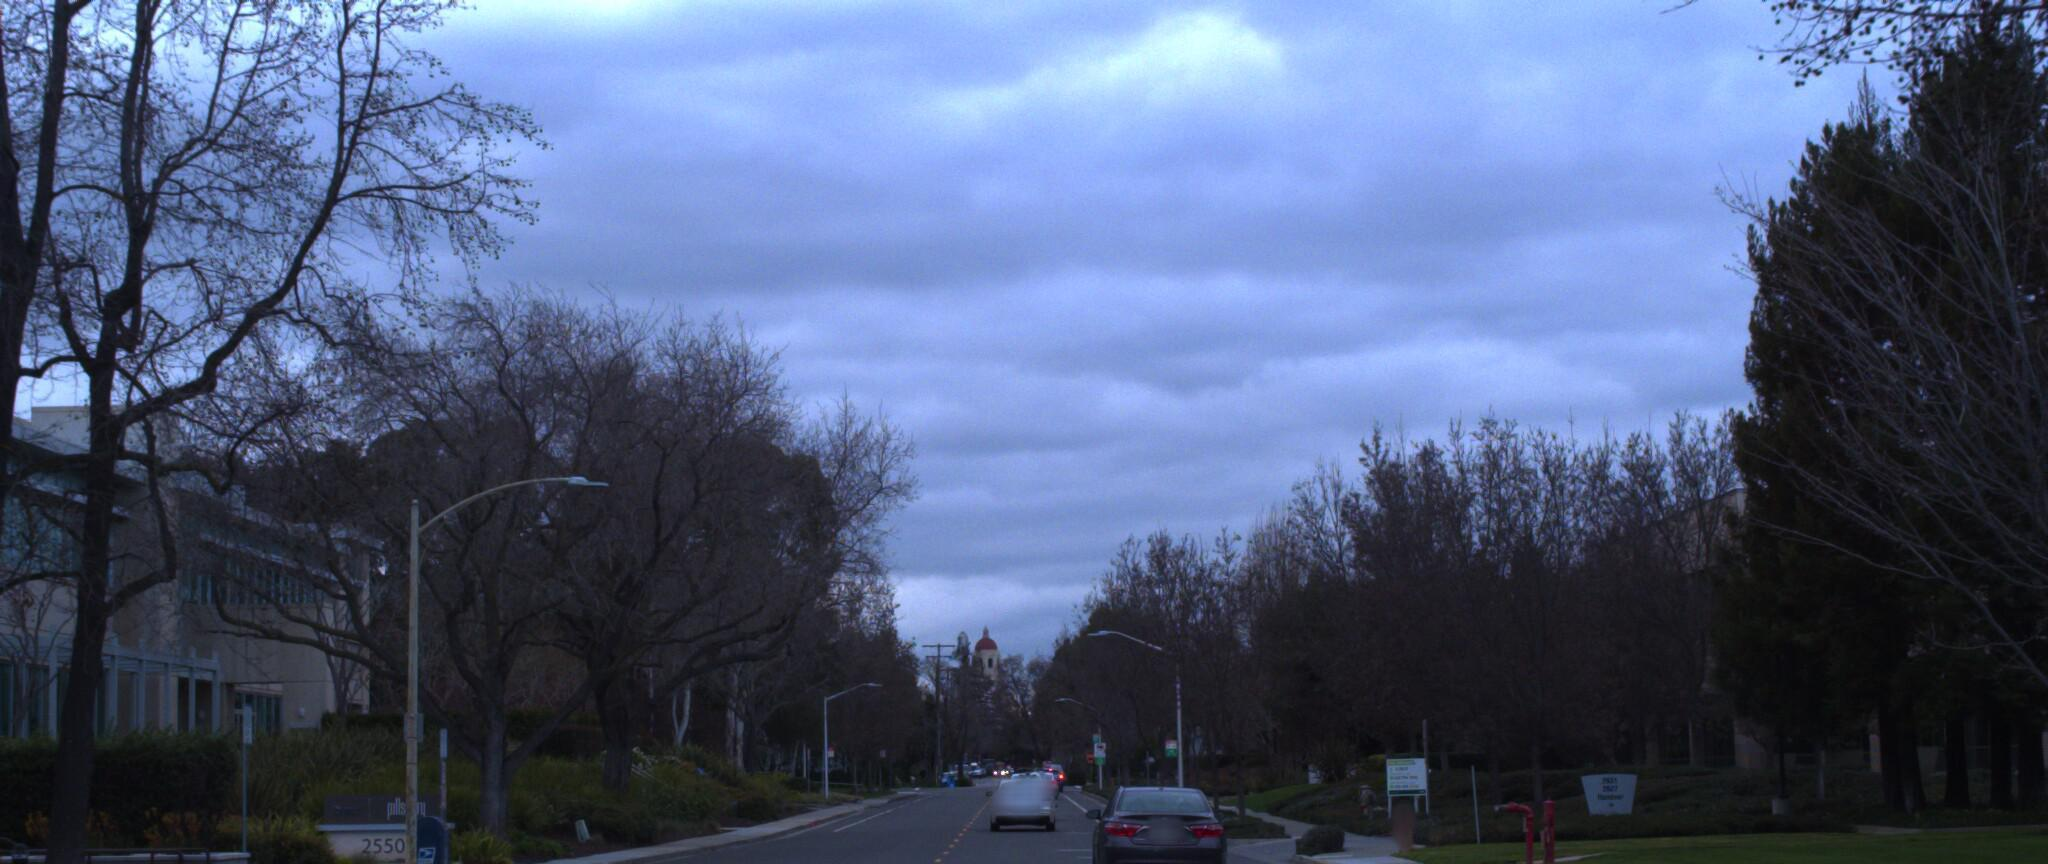car: (1076, 790, 1221, 864)
